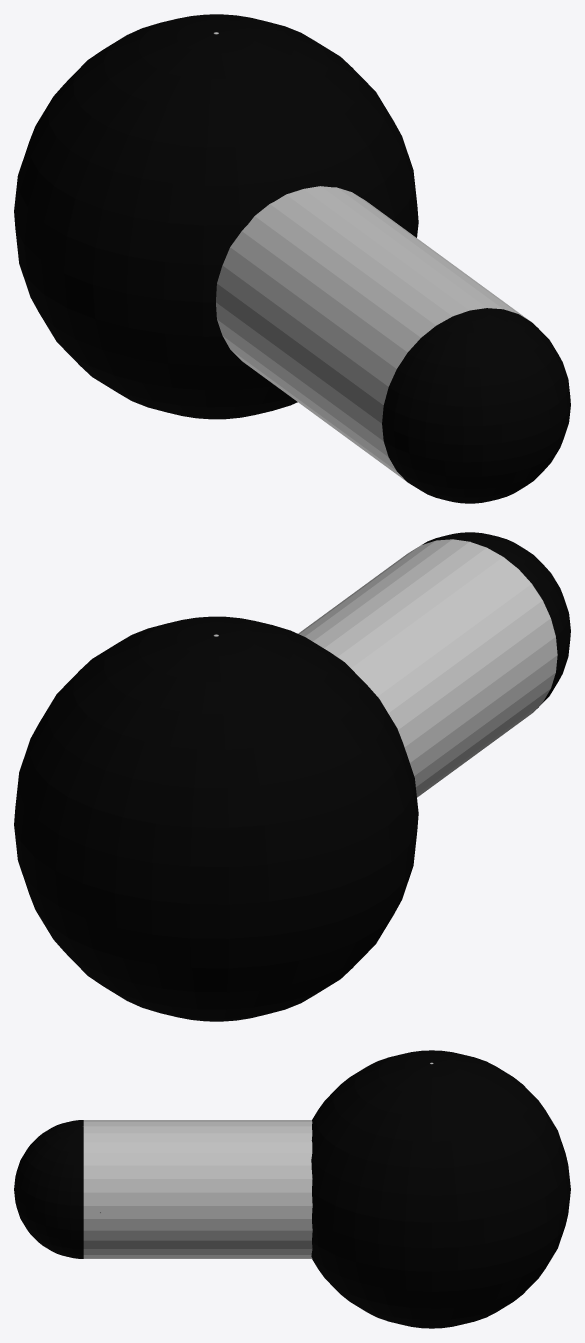
The model's file is UpperArm.obj.
The picture shows the model from 3 angles, top to bottom: view 1: azimuth 30°, elevation 25°; view 2: azimuth 150°, elevation 25°; view 3: azimuth 270°, elevation 25°; orthographic projection. The views are drawn at different scales.
Visible parts, largest first — view 1: 球體.001, 圓柱體, 球體; view 2: 球體.001, 圓柱體, 球體; view 3: 球體.001, 圓柱體, 球體.
Part boxes in pixels (x1,y1,x2,y2): 球體.001: [14, 14, 418, 419]; 圓柱體: [216, 186, 530, 481]; 球體: [382, 308, 570, 503]; 球體.001: [14, 616, 418, 1021]; 圓柱體: [298, 539, 557, 797]; 球體: [422, 532, 570, 712]; 球體.001: [311, 1050, 570, 1328]; 圓柱體: [83, 1120, 312, 1258]; 球體: [14, 1120, 83, 1258].
Bounding box in the file's own units: 2 × 2 × 4.
3 materials, 3 textured.
